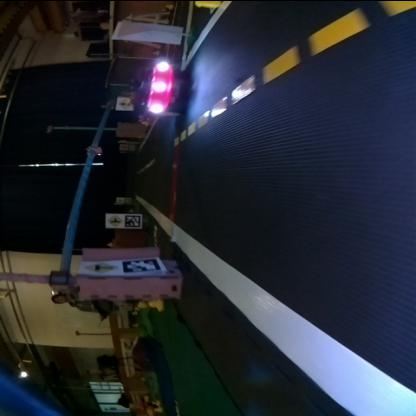Duckie: (148, 298, 162, 308)
Duckiebot: (134, 60, 184, 116)
Intersection sign: (82, 259, 118, 273), (104, 212, 122, 224)
QR code: (122, 256, 162, 272), (124, 212, 141, 226)
Signal sign: (115, 96, 133, 108)
